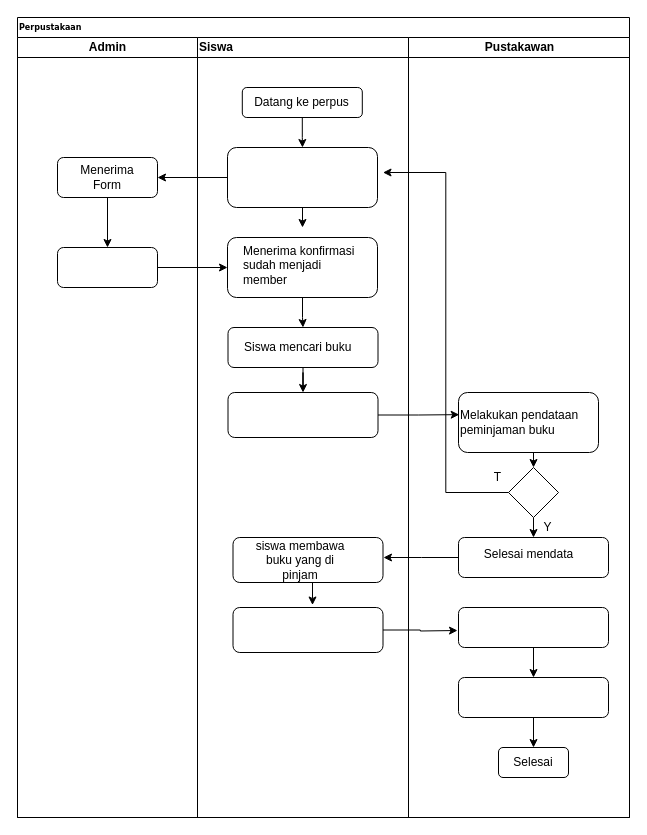
Image size: 647x835. Some labels were removed from this diagram. The centre of each missing label's shape, as x and y in pixels:
Menaruh buku di rak: point 533,697
Menerima buku yang telah di pinjam: point 533,627
Mengisi form pendaftaran menjadi member: point 302,177
Mengkonfirmasi form: point 107,267
Siswa datang melakukan pengembalian buku: point 307,629
Siswa mendapatkan buku: point 302,415
